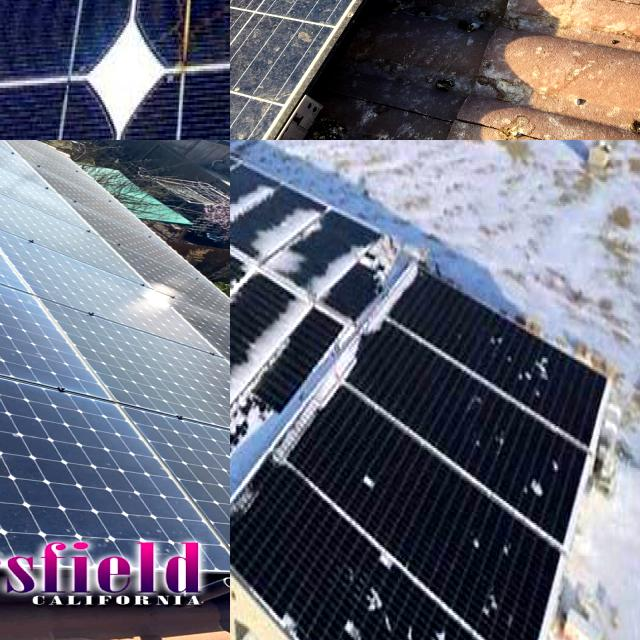bird: (230, 102, 299, 140), (507, 0, 559, 47), (318, 0, 434, 21), (230, 18, 273, 64), (281, 0, 384, 19), (230, 0, 311, 19)
dust: (146, 183, 230, 325), (0, 263, 112, 342)
panel: (327, 526, 455, 640), (230, 294, 294, 476), (458, 527, 534, 640), (473, 311, 565, 404), (483, 418, 568, 516), (324, 223, 412, 298), (249, 194, 313, 280), (352, 443, 402, 512), (230, 169, 273, 243)
shadow: (154, 0, 230, 111)
